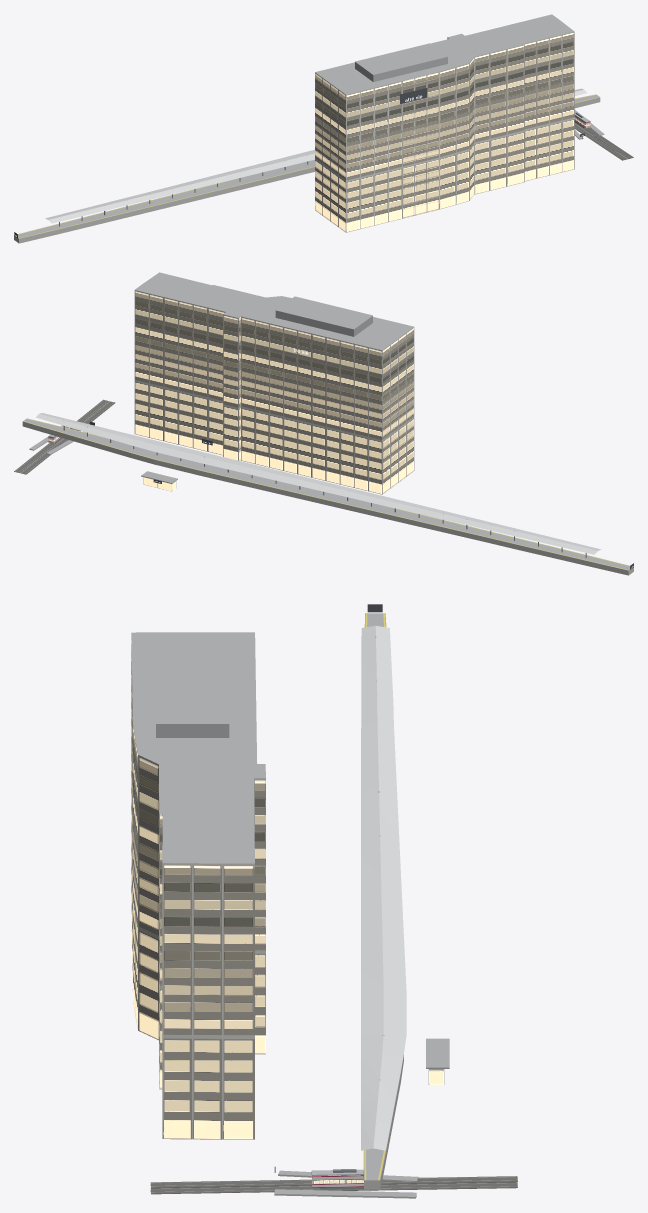
File: otsuka_station.glb
The picture shows the model from 3 angles, top to bottom: view 1: azimuth 30°, elevation 25°; view 2: azimuth 150°, elevation 25°; view 3: azimuth 270°, elevation 25°; orthographic projection. The views are drawn at different scales.
Parts seen in each view (by area): view 1: OT_Station; view 2: OT_Station; view 3: OT_Station.
Part boxes in pixels (box(x1,y1,x2,y2)): OT_Station: box(14, 14, 633, 243); OT_Station: box(14, 272, 633, 575); OT_Station: box(131, 604, 517, 1198).
Size of the model in its own units: 256 by 61.1 by 74.
14 materials, 3 textured.
